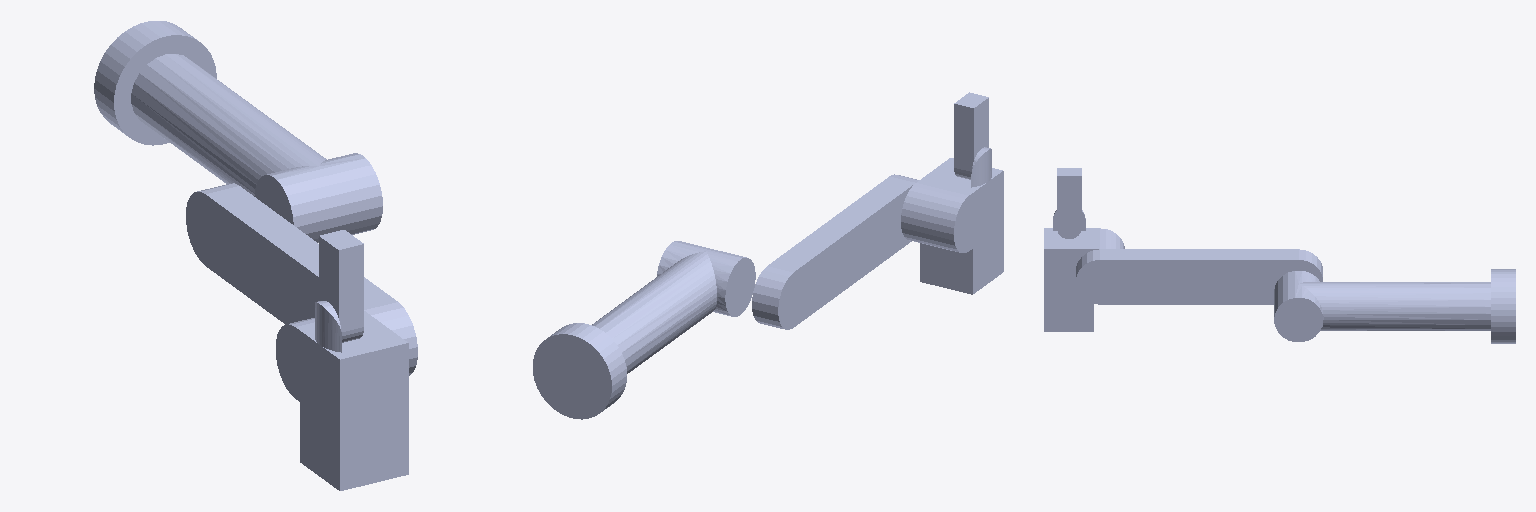
The robot description file, URDF, robot "collision_model.SLDASM":
<?xml version="1.0" encoding="utf-8"?>
<!-- This URDF was automatically created by SolidWorks to URDF Exporter! Originally created by [author] ([email redacted]) 
     Commit Version: 1.6.0-4-g7f85cfe  Build Version: 1.6.7995.38578
     For more information, please see http://wiki.ros.org/sw_urdf_exporter -->
<robot
  name="collision_model.SLDASM">
  <link
    name="base_link">
    <inertial>
      <origin
        xyz="-7.426E-19 0 0.0127"
        rpy="0 0 0" />
      <mass
        value="0.11583" />
      <inertia
        ixx="4.8264E-05"
        ixy="0"
        ixz="7.8626E-38"
        iyy="4.8264E-05"
        iyz="-1.0831E-37"
        izz="8.4072E-05" />
    </inertial>
    <visual>
      <origin
        xyz="0 0 0"
        rpy="0 0 0" />
      <geometry>
        <mesh
          filename="../robotic-arm-model/meshes/base_link.STL" />
      </geometry>
      <material
        name="">
        <color
          rgba="0.79216 0.81961 0.93333 1" />
      </material>
    </visual>
    <collision>
      <origin
        xyz="0 0 0"
        rpy="0 0 0" />
      <geometry>
        <mesh
          filename="../robotic-arm-model/meshes/base_link.STL" />
      </geometry>
    </collision>
  </link>
  <link
    name="Link1">
    <inertial>
      <origin
        xyz="-9.3441E-11 1.0837E-19 0.11741"
        rpy="0 0 0" />
      <mass
        value="0.48852" />
      <inertia
        ixx="0.00219"
        ixy="-6.4519E-11"
        ixz="2.8597E-11"
        iyy="0.0021648"
        iyz="-1.124E-20"
        izz="0.00018559" />
    </inertial>
    <visual>
      <origin
        xyz="0 0 0"
        rpy="0 0 0" />
      <geometry>
        <mesh
          filename="../robotic-arm-model/meshes/Link1.STL" />
      </geometry>
      <material
        name="">
        <color
          rgba="0.79216 0.81961 0.93333 1" />
      </material>
    </visual>
    <collision>
      <origin
        xyz="0 0 0"
        rpy="0 0 0" />
      <geometry>
        <mesh
          filename="../robotic-arm-model/meshes/Link1.STL" />
      </geometry>
    </collision>
  </link>
  <joint
    name="J1"
    type="revolute">
    <origin
      xyz="0 -0.0254 0"
      rpy="1.5708 -1.5708 0" />
    <parent
      link="base_link" />
    <child
      link="Link1" />
    <axis
      xyz="0 0 1" />
    <limit
      lower="-6.28"
      upper="6.28"
      effort="10"
      velocity="2" />
  </joint>
  <link
    name="Link2">
    <inertial>
      <origin
        xyz="0.1016 9.7469E-18 -0.0127"
        rpy="0 0 0" />
      <mass
        value="0.31367" />
      <inertia
        ixx="8.1553E-05"
        ixy="6.2199E-21"
        ixz="3.6512E-20"
        iyy="0.0015715"
        iyz="3.3938E-22"
        izz="0.0016194" />
    </inertial>
    <visual>
      <origin
        xyz="0 0 0"
        rpy="0 0 0" />
      <geometry>
        <mesh
          filename="../robotic-arm-model/meshes/Link2.STL" />
      </geometry>
      <material
        name="">
        <color
          rgba="0.79216 0.81961 0.93333 1" />
      </material>
    </visual>
    <collision>
      <origin
        xyz="0 0 0"
        rpy="0 0 0" />
      <geometry>
        <mesh
          filename="../robotic-arm-model/meshes/Link2.STL" />
      </geometry>
    </collision>
  </link>
  <joint
    name="J2"
    type="revolute">
    <origin
      xyz="0 0.05842 0.19655"
      rpy="1.5708 -1.5708 0" />
    <parent
      link="Link1" />
    <child
      link="Link2" />
    <axis
      xyz="0 0 1" />
    <limit
      lower="-1.57"
      upper="1.57"
      effort="10"
      velocity="2" />
  </joint>
  <link
    name="Link3">
    <inertial>
      <origin
        xyz="-0.016542 0.023133 -0.0254"
        rpy="0 0 0" />
      <mass
        value="0.30843" />
      <inertia
        ixx="0.00020404"
        ixy="4.3965E-05"
        ixz="-2.7136E-20"
        iyy="0.00027617"
        iyz="1.5599E-20"
        izz="0.00034755" />
    </inertial>
    <visual>
      <origin
        xyz="0 0 0"
        rpy="0 0 0" />
      <geometry>
        <mesh
          filename="../robotic-arm-model/meshes/Link3.STL" />
      </geometry>
      <material
        name="">
        <color
          rgba="0.79216 0.81961 0.93333 1" />
      </material>
    </visual>
    <collision>
      <origin
        xyz="0 0 0"
        rpy="0 0 0" />
      <geometry>
        <mesh
          filename="../robotic-arm-model/meshes/Link3.STL" />
      </geometry>
    </collision>
  </link>
  <joint
    name="J3"
    type="revolute">
    <origin
      xyz="0.2032 0 -0.0254"
      rpy="0 0 -1.5708" />
    <parent
      link="Link2" />
    <child
      link="Link3" />
    <axis
      xyz="0 0 1" />
    <limit
      lower="-3.14"
      upper="1.57"
      effort="10"
      velocity="2" />
  </joint>
  <link
    name="Link4">
    <inertial>
      <origin
        xyz="-0.0046154 -4.6882E-07 0.034316"
        rpy="0 0 0" />
      <mass
        value="0.12125" />
      <inertia
        ixx="9.2966E-05"
        ixy="4.3844E-11"
        ixz="1.7709E-05"
        iyy="9.2332E-05"
        iyz="2.3926E-10"
        izz="3.7485E-05" />
    </inertial>
    <visual>
      <origin
        xyz="0 0 0"
        rpy="0 0 0" />
      <geometry>
        <mesh
          filename="../robotic-arm-model/meshes/Link4.STL" />
      </geometry>
      <material
        name="">
        <color
          rgba="0.79216 0.81961 0.93333 1" />
      </material>
    </visual>
    <collision>
      <origin
        xyz="0 0 0"
        rpy="0 0 0" />
      <geometry>
        <mesh
          filename="../robotic-arm-model/meshes/Link4.STL" />
      </geometry>
    </collision>
  </link>
  <joint
    name="J4"
    type="revolute">
    <origin
      xyz="-0.067818 0.03175 -0.0254"
      rpy="3.1416 -1.5708 0" />
    <parent
      link="Link3" />
    <child
      link="Link4" />
    <axis
      xyz="0 0 1" />
    <limit
      lower="-6.28"
      upper="6.28"
      effort="10"
      velocity="2" />
  </joint>
  <link
    name="Link5">
    <inertial>
      <origin
        xyz="-0.024276 -5.5511E-17 0.009525"
        rpy="0 0 0" />
      <mass
        value="0.033202" />
      <inertia
        ixx="2.7243E-06"
        ixy="-5.5955E-23"
        ixz="-1.3299E-21"
        iyy="1.4161E-05"
        iyz="-6.1182E-24"
        izz="1.4877E-05" />
    </inertial>
    <visual>
      <origin
        xyz="0 0 0"
        rpy="0 0 0" />
      <geometry>
        <mesh
          filename="../robotic-arm-model/meshes/Link5.STL" />
      </geometry>
      <material
        name="">
        <color
          rgba="0.79216 0.81961 0.93333 1" />
      </material>
    </visual>
    <collision>
      <origin
        xyz="0 0 0"
        rpy="0 0 0" />
      <geometry>
        <mesh
          filename="../robotic-arm-model/meshes/Link5.STL" />
      </geometry>
    </collision>
  </link>
  <joint
    name="J5"
    type="revolute">
    <origin
      xyz="-0.01905 0 0.10533"
      rpy="0 1.5708 0" />
    <parent
      link="Link4" />
    <child
      link="Link5" />
    <axis
      xyz="0 0 1" />
    <limit
      lower="-1.57"
      upper="1.57"
      effort="10"
      velocity="2" />
  </joint>
</robot>

--- Facts derived from the render (not from the file) ---
The picture shows the robot from 3 angles, left to right: view 1: azimuth 30°, elevation 25°; view 2: azimuth 150°, elevation 25°; view 3: azimuth 270°, elevation 25°; orthographic projection.
Model collision_model.SLDASM with 6 links and 5 joints (5 revolute), rooted at base_link, posed every joint at zero.
Visible links, largest first — view 1: Link1, Link3, Link2, base_link, Link5, Link4; view 2: Link2, Link1, Link3, base_link, Link5, Link4; view 3: Link2, Link1, Link3, base_link, Link5.
Boxes of the visible links, x1,y1,x2,y2 form: Link1: (131,54,382,242); Link3: (276,311,408,490); Link2: (186,183,417,375); base_link: (94,21,216,145); Link5: (319,230,363,342); Link4: (315,301,341,352); Link2: (752,174,918,329); Link1: (592,241,755,373); Link3: (901,158,1003,294); base_link: (533,323,626,419); Link5: (954,92,988,179); Link4: (971,147,991,187); Link2: (1076,249,1322,304); Link1: (1274,271,1490,341); Link3: (1044,228,1124,331); base_link: (1491,269,1515,343); Link5: (1057,168,1081,238).
Bounding box of the posed robot: 0.1727 × 0.4823 × 0.164 m (x, y, z).
Meshes: 6 distinct files referenced, 6 mesh visuals loaded (6 binary STL).